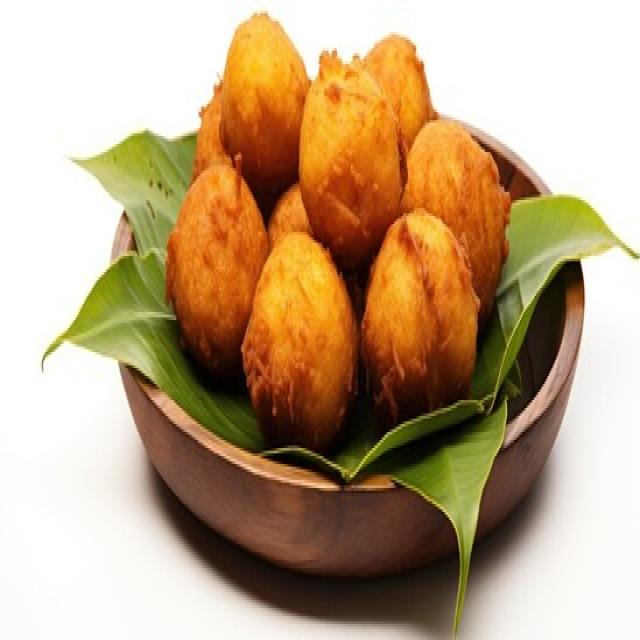BONDA: (171, 7, 505, 444)
